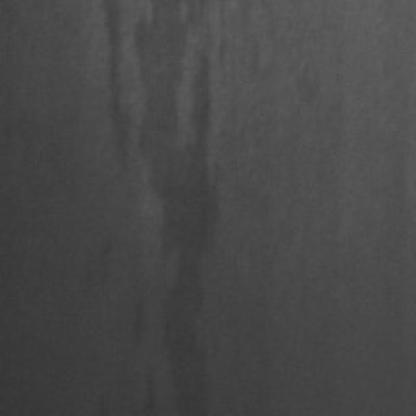inclusion: (112, 0, 223, 404), (85, 0, 148, 185)
